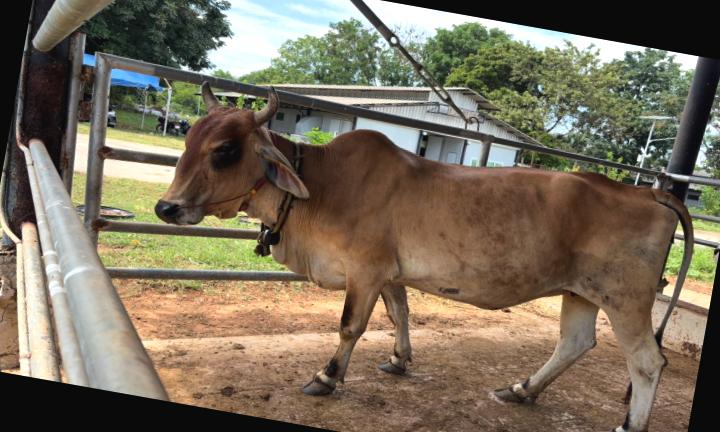Brahman: (155, 82, 693, 432)
